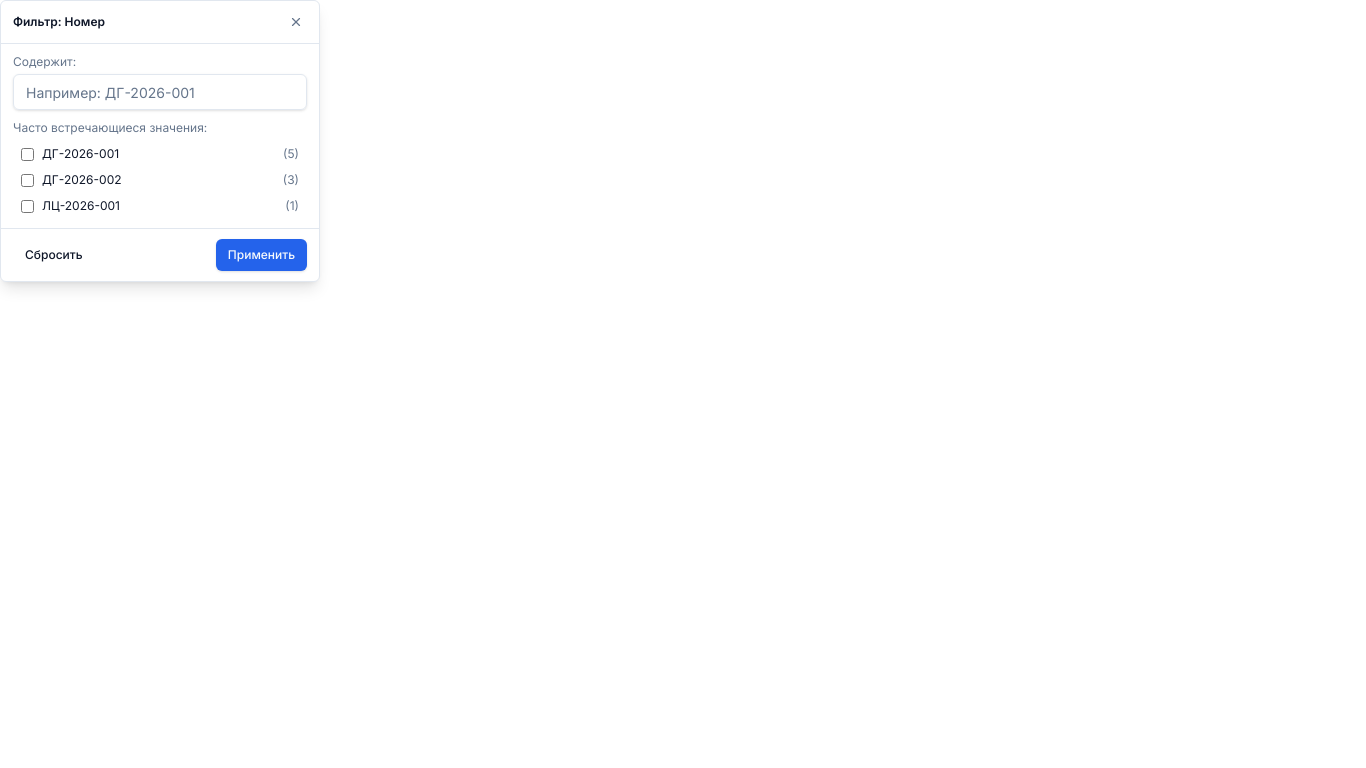
Test: TextFilterPopover › disables free-text input when a checkbox is selected
Click the checkbox labelled "ДГ-2026-001 (5)": (28, 154) [21,148,34,160]
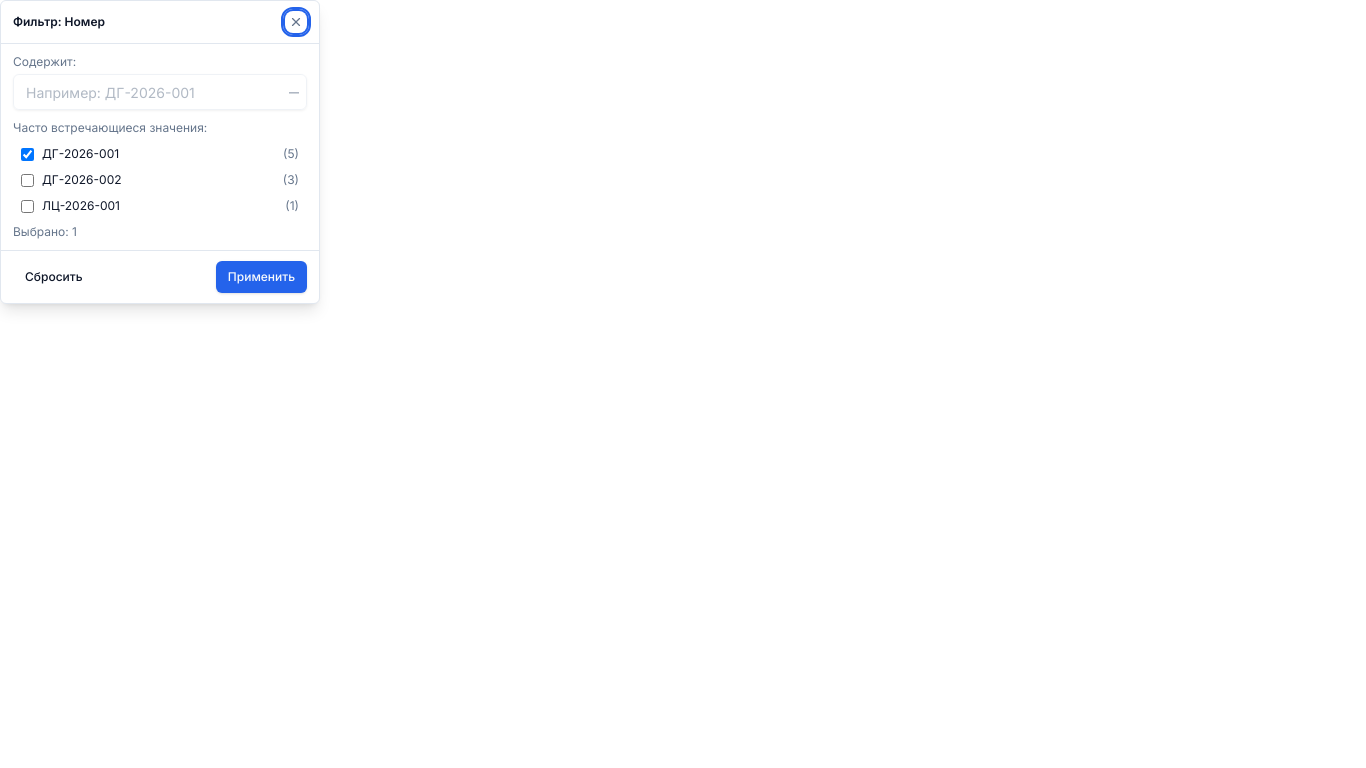
expect the field labelled "Содержит:" is disabled: met, box [13,74,307,110]
